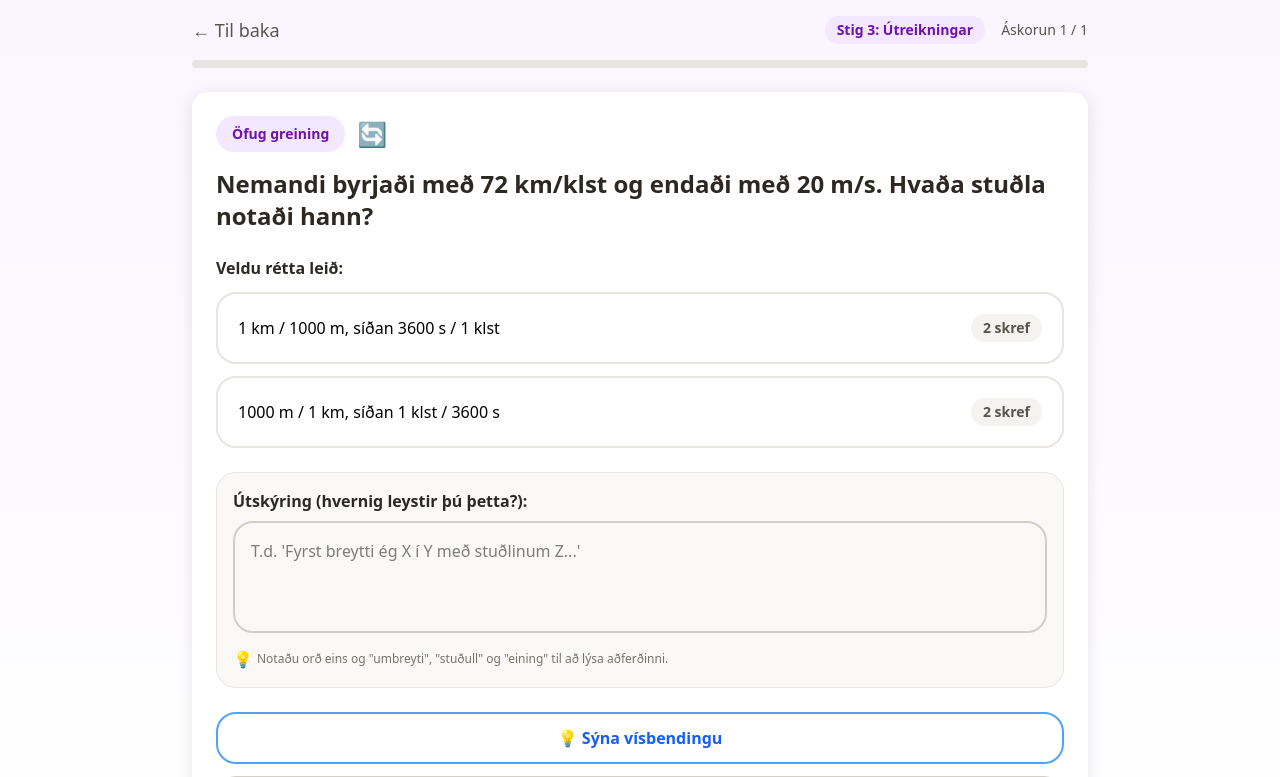
Scenario: the choices are shuffled, and graded in the order shown › a reverse item: the correct route is not always on top, and picking it is right
Expected: the button "skref" does not show "1000 m / 1 km, síðan 1 klst / 3600 s"
Click the button "1000 m / 1 km, síðan 1 klst / 3600 s 2 skref".
click(369, 412)  # box [216, 376, 1064, 448]
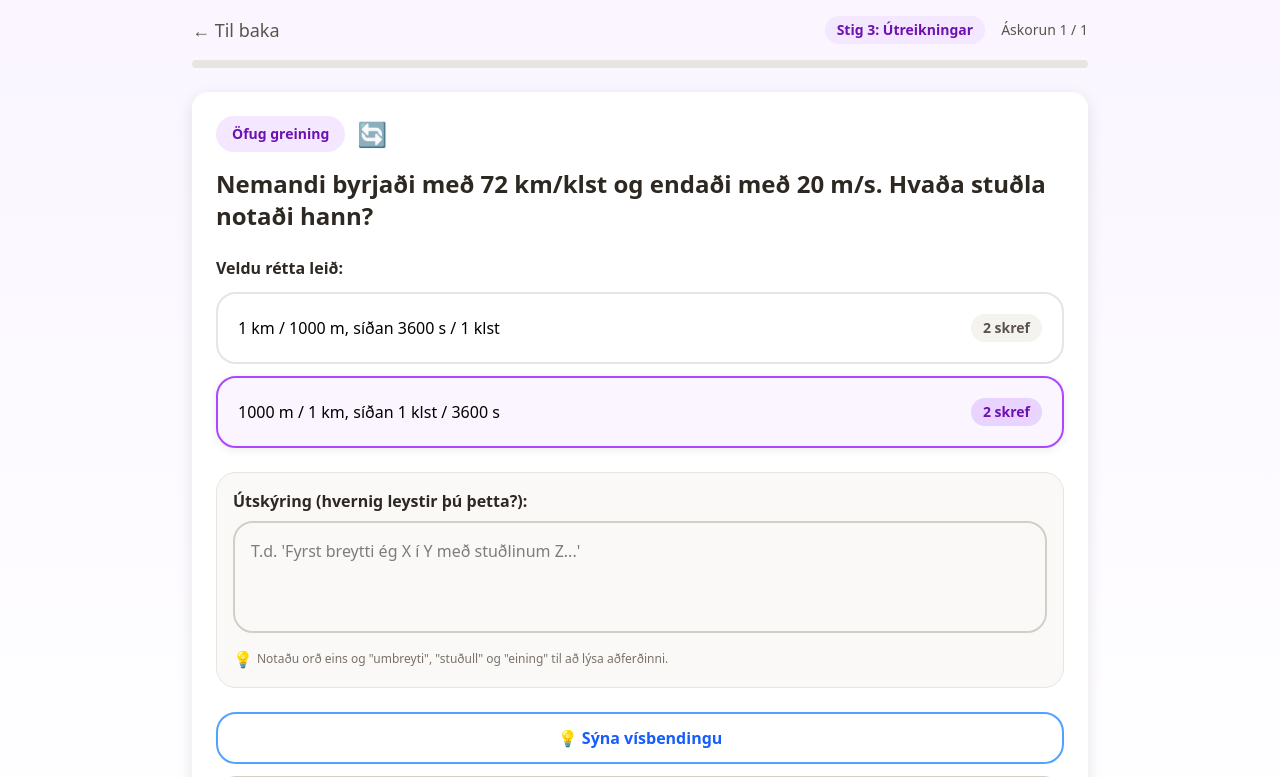
Type "Ég umbreytti einingunum skref fyrir skref með stuðlum." into the text box labelled "Útskýring (hvernig leystir þú þetta?):".
click(640, 577); type("Ég umbreytti einingunum skref fyrir skref með stuðlum.")  # box [233, 521, 1047, 633]
(page scrolled)
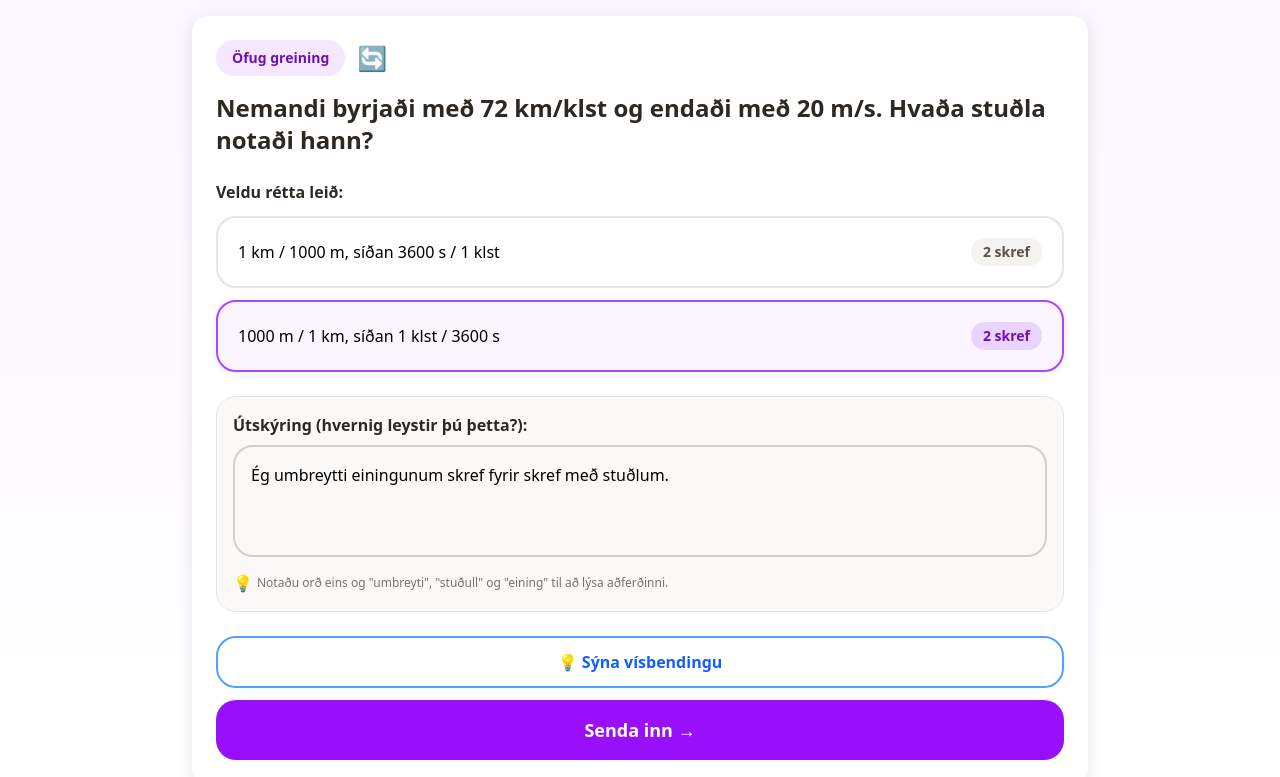
Click the button "Senda inn →".
click(640, 730)  # box [216, 700, 1064, 760]
(page scrolled)
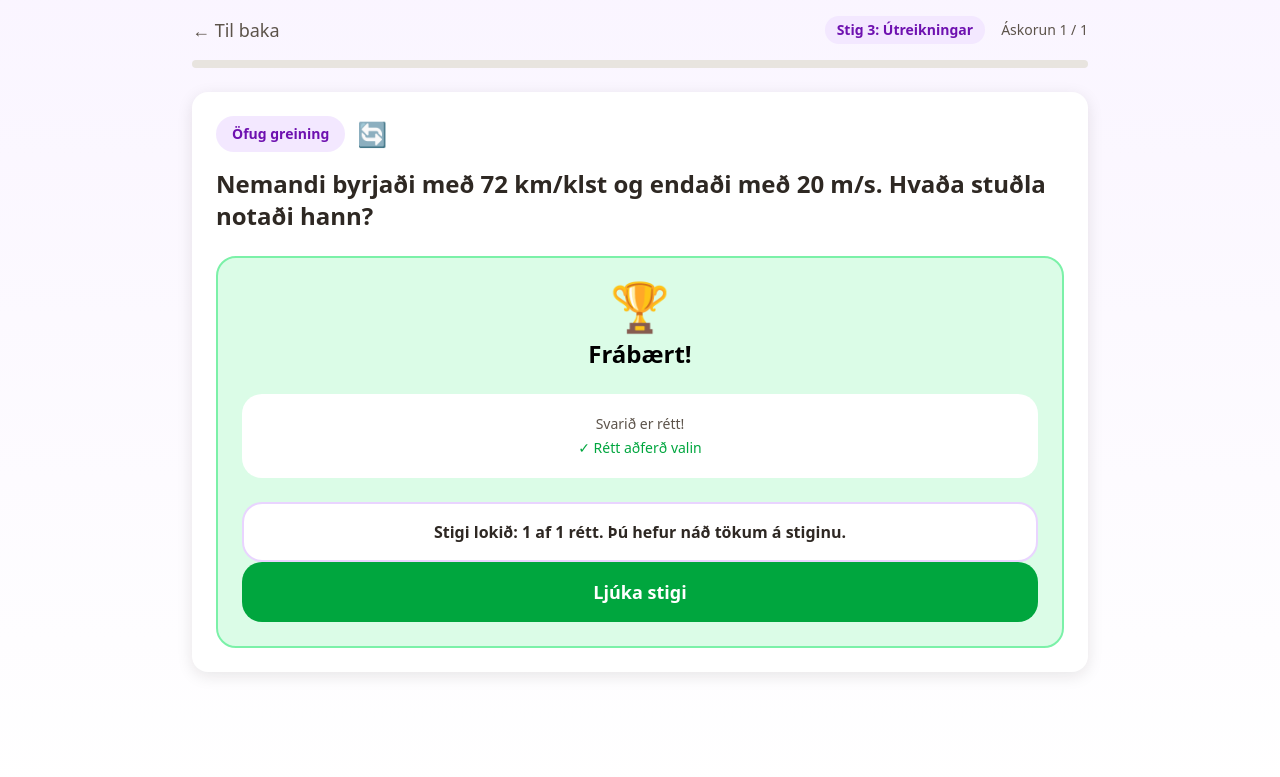
Expected: the text "Svarið er rétt!" is shown, [596, 414, 684, 433]
